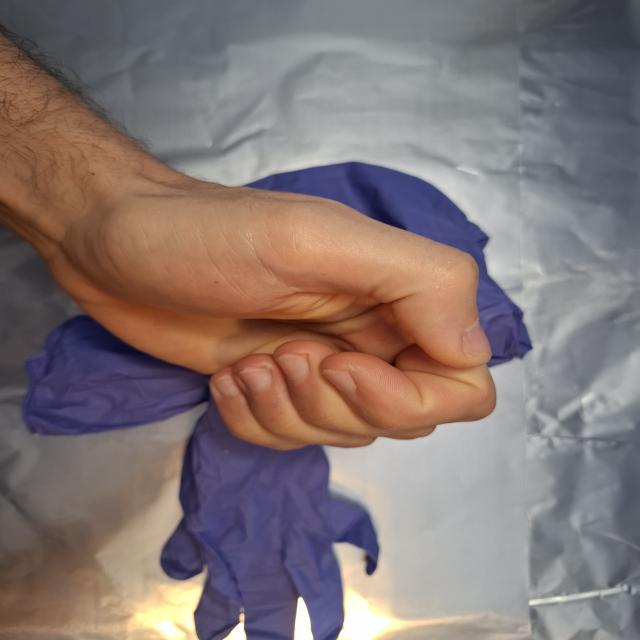glove_off: (47, 156, 500, 452)
